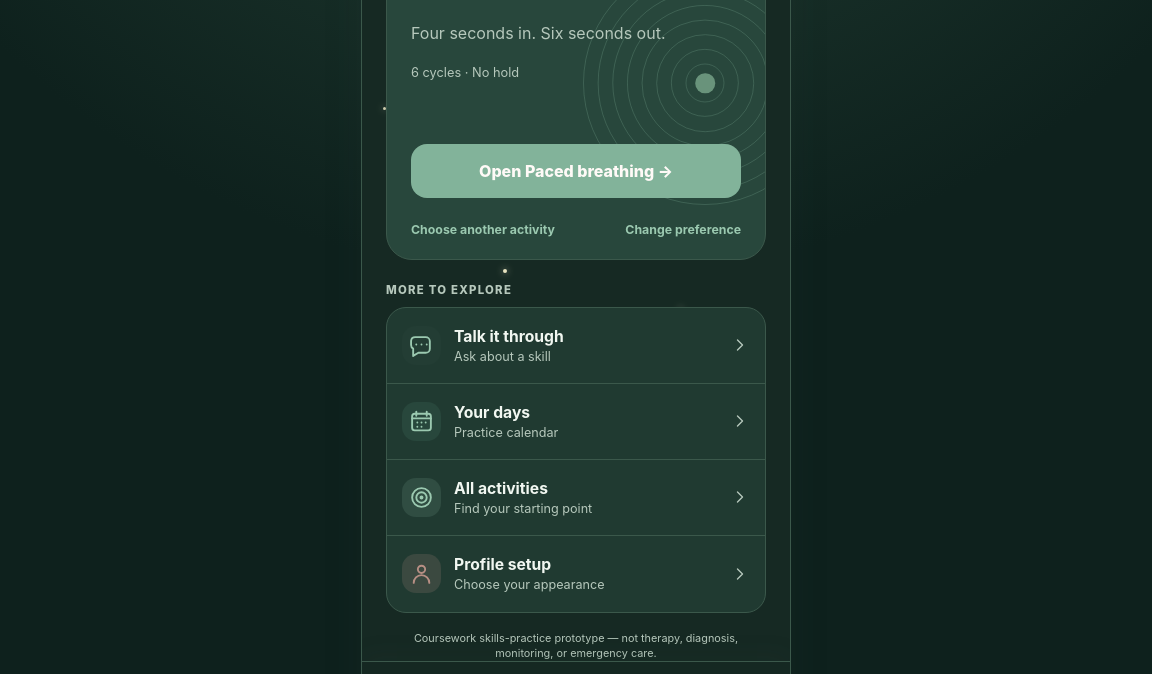
Test: ClearSpace Part 3.2 flows › keeps text chat usable when optional voice is not configured
The width and height of the screenshot is (1152, 674).
(page scrolled)
Click the button "Talk it through Ask about a skill": (422, 345) x1=387 y1=308 x2=765 y2=384
(page scrolled)
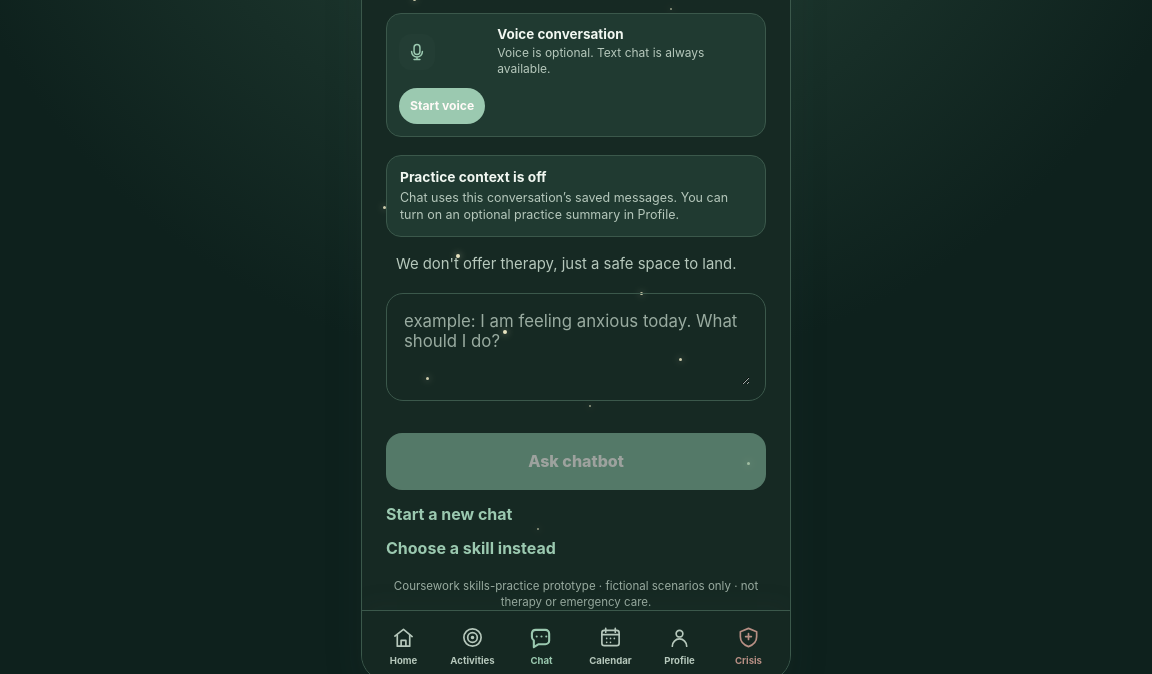
Click the button "Start voice": (442, 106) x1=399 y1=88 x2=485 y2=124
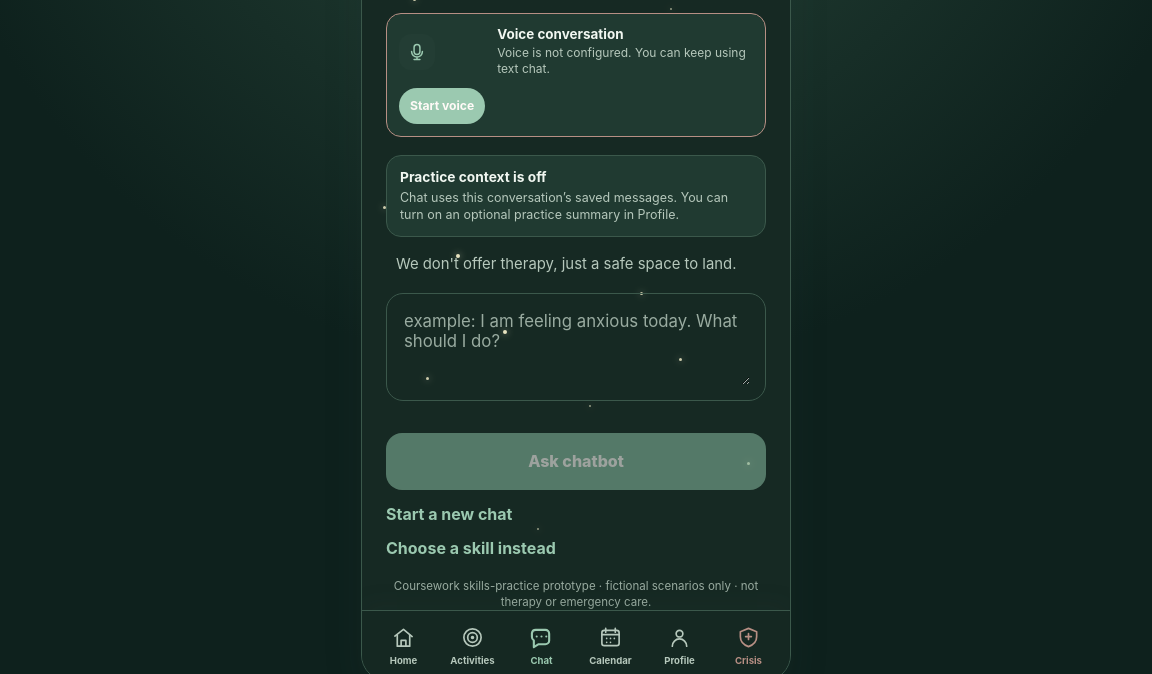
Now the text box named "Message for the chatbot" is enabled, box x1=402 y1=309 x2=750 y2=385
Now the text "Voice is not configured. You can keep using text chat." is shown, box x1=497 y1=45 x2=753 y2=78
